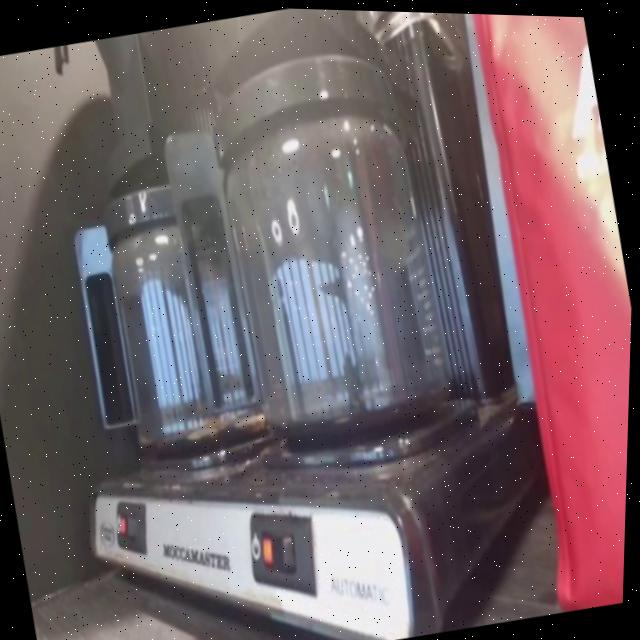nocoffee: (214, 118, 465, 446), (98, 217, 270, 477)
